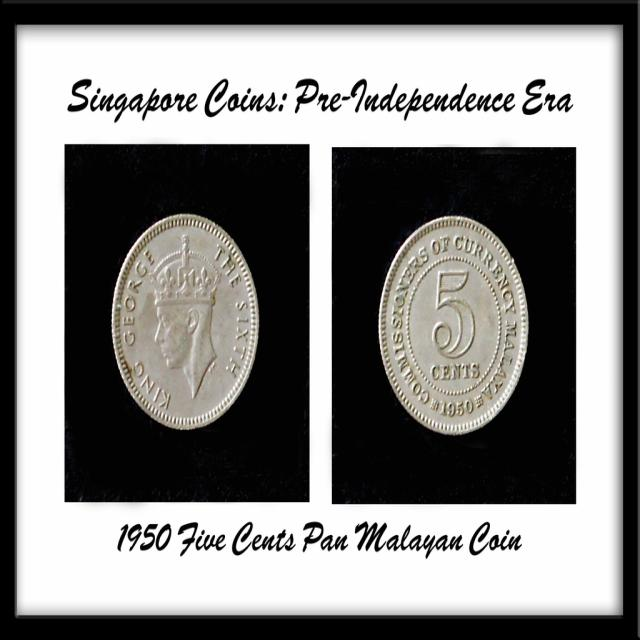Coin: (378, 212, 533, 435), (111, 213, 258, 424)
